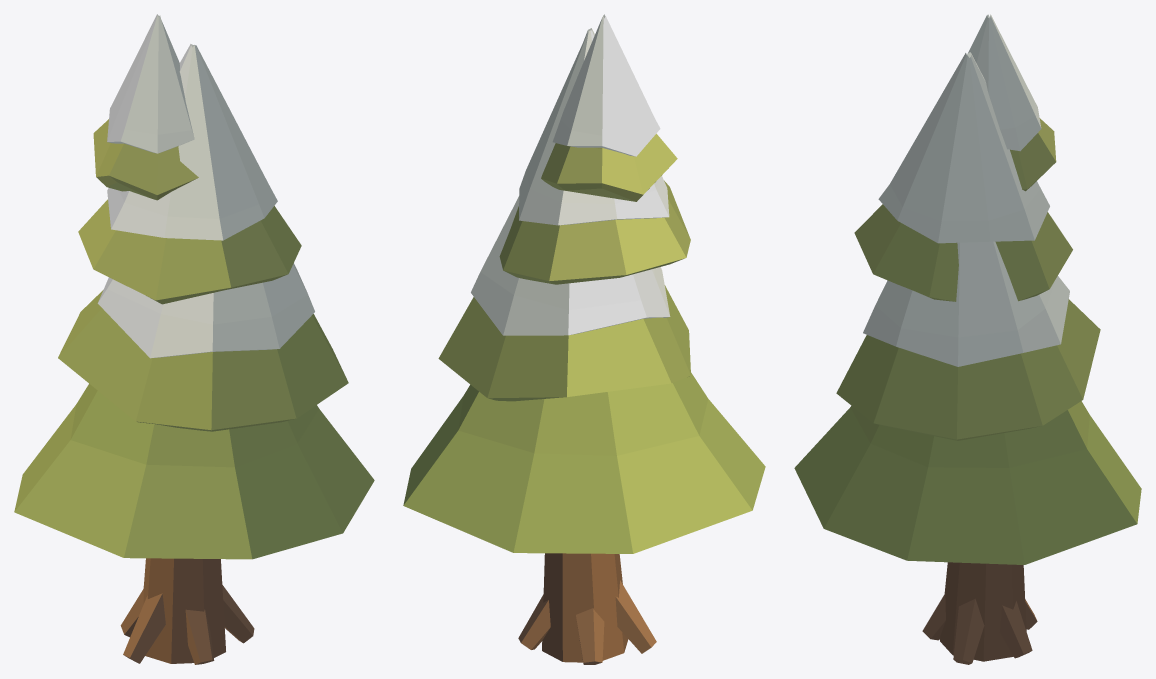
Rendered from forage_2_winter.glb.
3 views of the same model, side by side, from view 1: azimuth 30°, elevation 25°; view 2: azimuth 150°, elevation 25°; view 3: azimuth 270°, elevation 25° (orthographic). The views are drawn at different scales.
Parts seen in each view (by area): view 1: Rohstoff 2 · winter; view 2: Rohstoff 2 · winter; view 3: Rohstoff 2 · winter.
Part boxes in pixels (<box>): Rohstoff 2 · winter: <box>14,14,374,664</box>; Rohstoff 2 · winter: <box>403,14,765,664</box>; Rohstoff 2 · winter: <box>794,14,1141,664</box>.
Bounding box in the file's own units: 2.64 × 5.01 × 2.55.
